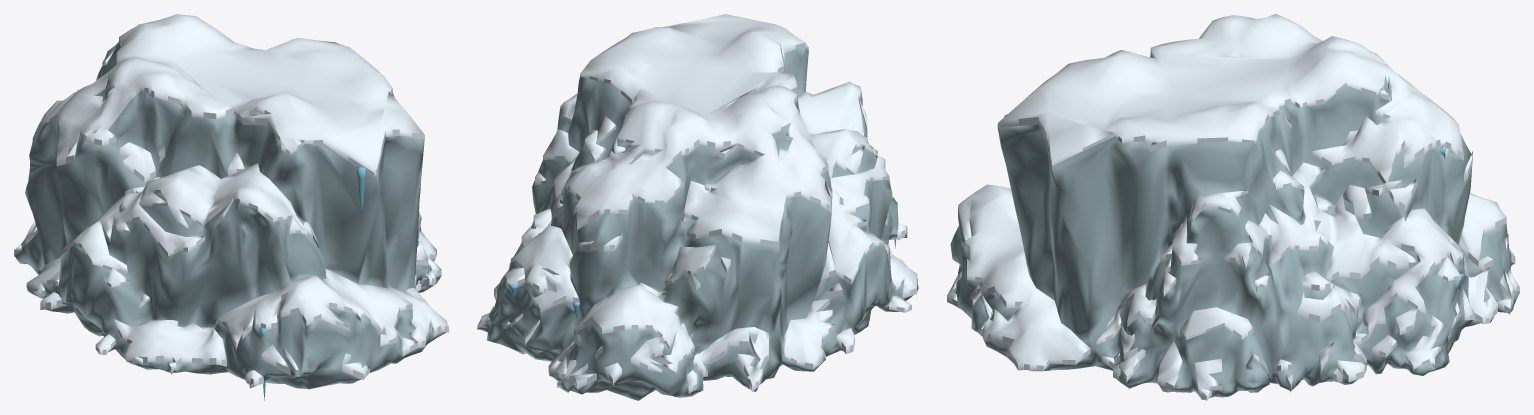
Rendered from SecondRoom_CaveBoulder.fbx.
3 renders of one model, left to right at view 1: azimuth 30°, elevation 25°; view 2: azimuth 150°, elevation 25°; view 3: azimuth 270°, elevation 25°, orthographic. The views are drawn at different scales.
Visible parts, largest first — view 1: SecondRoom_CaveBoulder_LOD0; view 2: SecondRoom_CaveBoulder_LOD0; view 3: SecondRoom_CaveBoulder_LOD0.
Boxes of the visible parts, x1=… form: SecondRoom_CaveBoulder_LOD0: x1=14, y1=14, x2=448, y2=400; SecondRoom_CaveBoulder_LOD0: x1=477, y1=14, x2=918, y2=400; SecondRoom_CaveBoulder_LOD0: x1=947, y1=14, x2=1519, y2=400.
Size of what is drawn, in the model's own units: 4.63 by 3.05 by 5.98.
